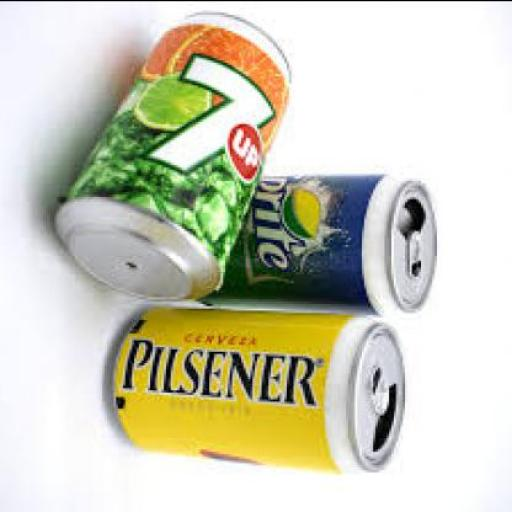metal: (50, 7, 293, 298), (112, 305, 407, 469), (188, 171, 437, 307)
